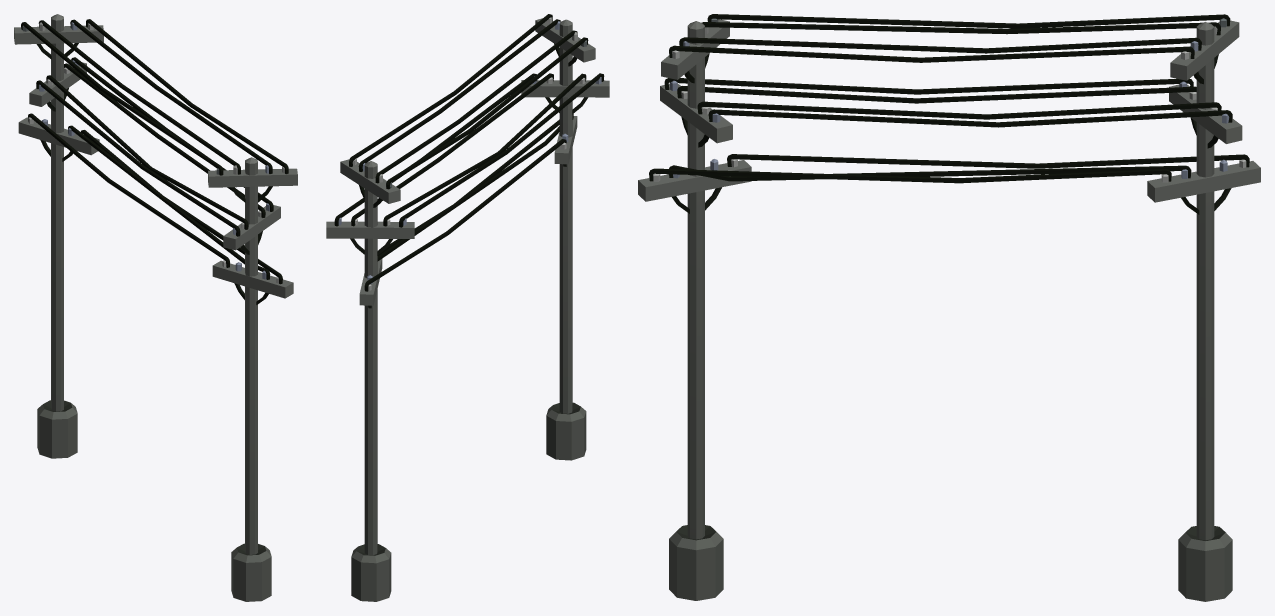
The model's file is Telephone_Pole_2.glb.
3 renders of one model, left to right at view 1: azimuth 30°, elevation 25°; view 2: azimuth 150°, elevation 25°; view 3: azimuth 270°, elevation 25°, orthographic. The views are drawn at different scales.
Visible parts, largest first — view 1: Telephone_posts; view 2: Telephone_posts; view 3: Telephone_posts.
Boxes of the visible parts, x1,y1,x2,y2 form: Telephone_posts: (14,14,297,601); Telephone_posts: (326,14,609,601); Telephone_posts: (638,14,1260,601).
Size of what is drawn, in the model's own units: 0.8968 by 4.93 by 4.89.
Materials: 1 (1 with a texture image).
